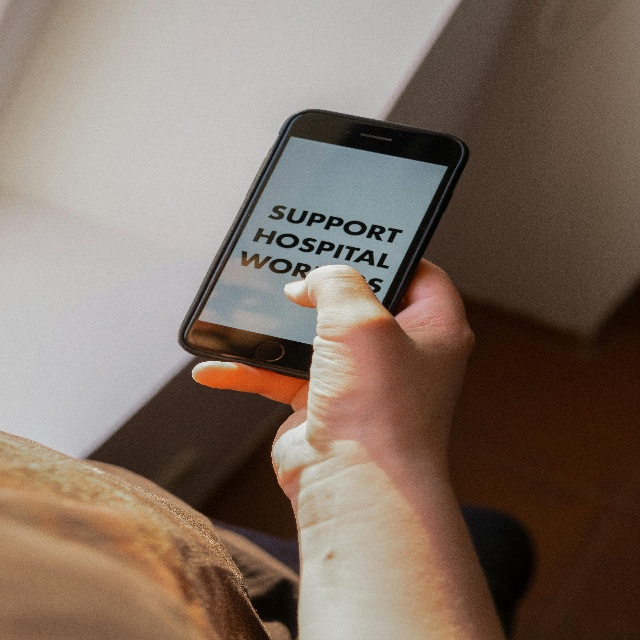Sin_guantes: (190, 256, 475, 484)
